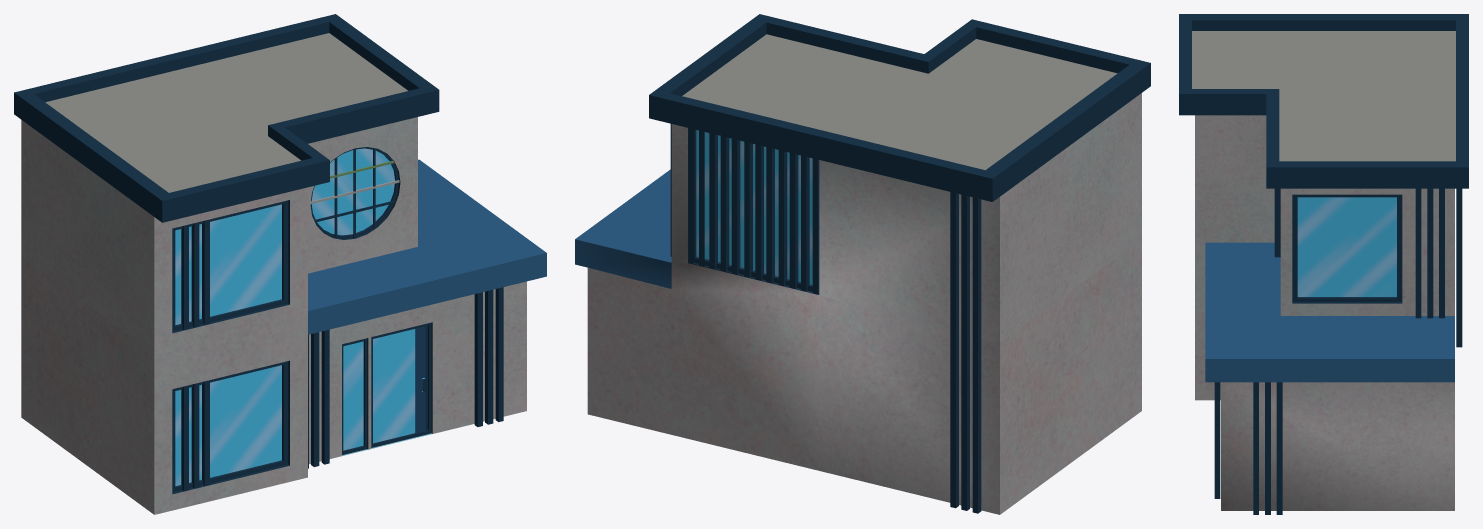
The model's file is ConcreteHouse_small.fbx.
The picture shows the model from 3 angles, left to right: view 1: azimuth 30°, elevation 25°; view 2: azimuth 150°, elevation 25°; view 3: azimuth 270°, elevation 25°; orthographic projection. The views are drawn at different scales.
Visible parts, largest first — view 1: ConcreteHouse_small; view 2: ConcreteHouse_small; view 3: ConcreteHouse_small.
Boxes of the visible parts, box(x1,y1,x2,y2) form: ConcreteHouse_small: box(14, 14, 546, 514); ConcreteHouse_small: box(575, 14, 1150, 514); ConcreteHouse_small: box(1179, 14, 1468, 514).
Size of the model in its own units: 32.18 by 38.42 by 49.87.
